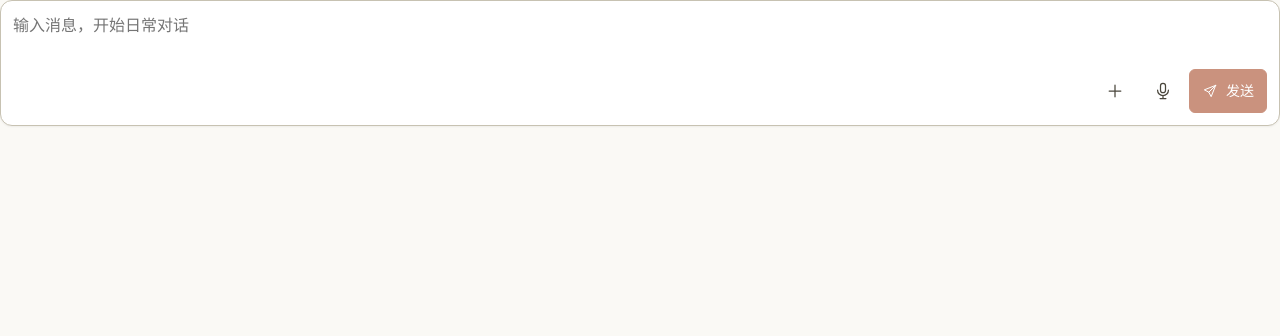
Test case: Composer 发送合同 › 纯文字发送不会丢弃在途恢复的其他账户草稿
Type "先发送" into the text box at (640, 37), box 13,13 -> 1267,61
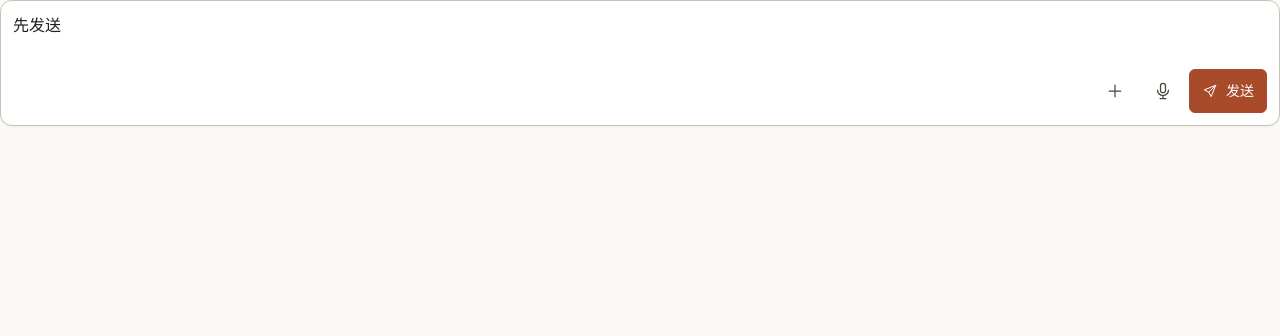
Click the button with aria-label "发送消息" at (1228, 91), box 1189,69 -> 1267,113
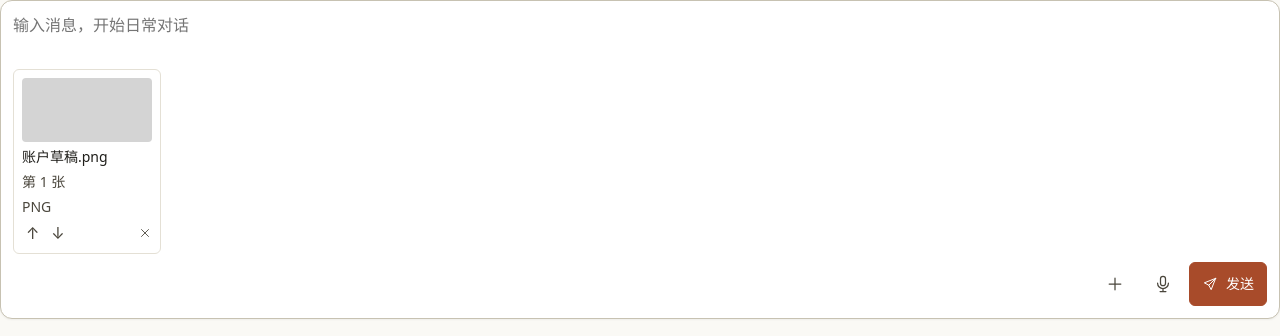
Check: the text "账户草稿.png" is shown, box 22,147 -> 108,166
